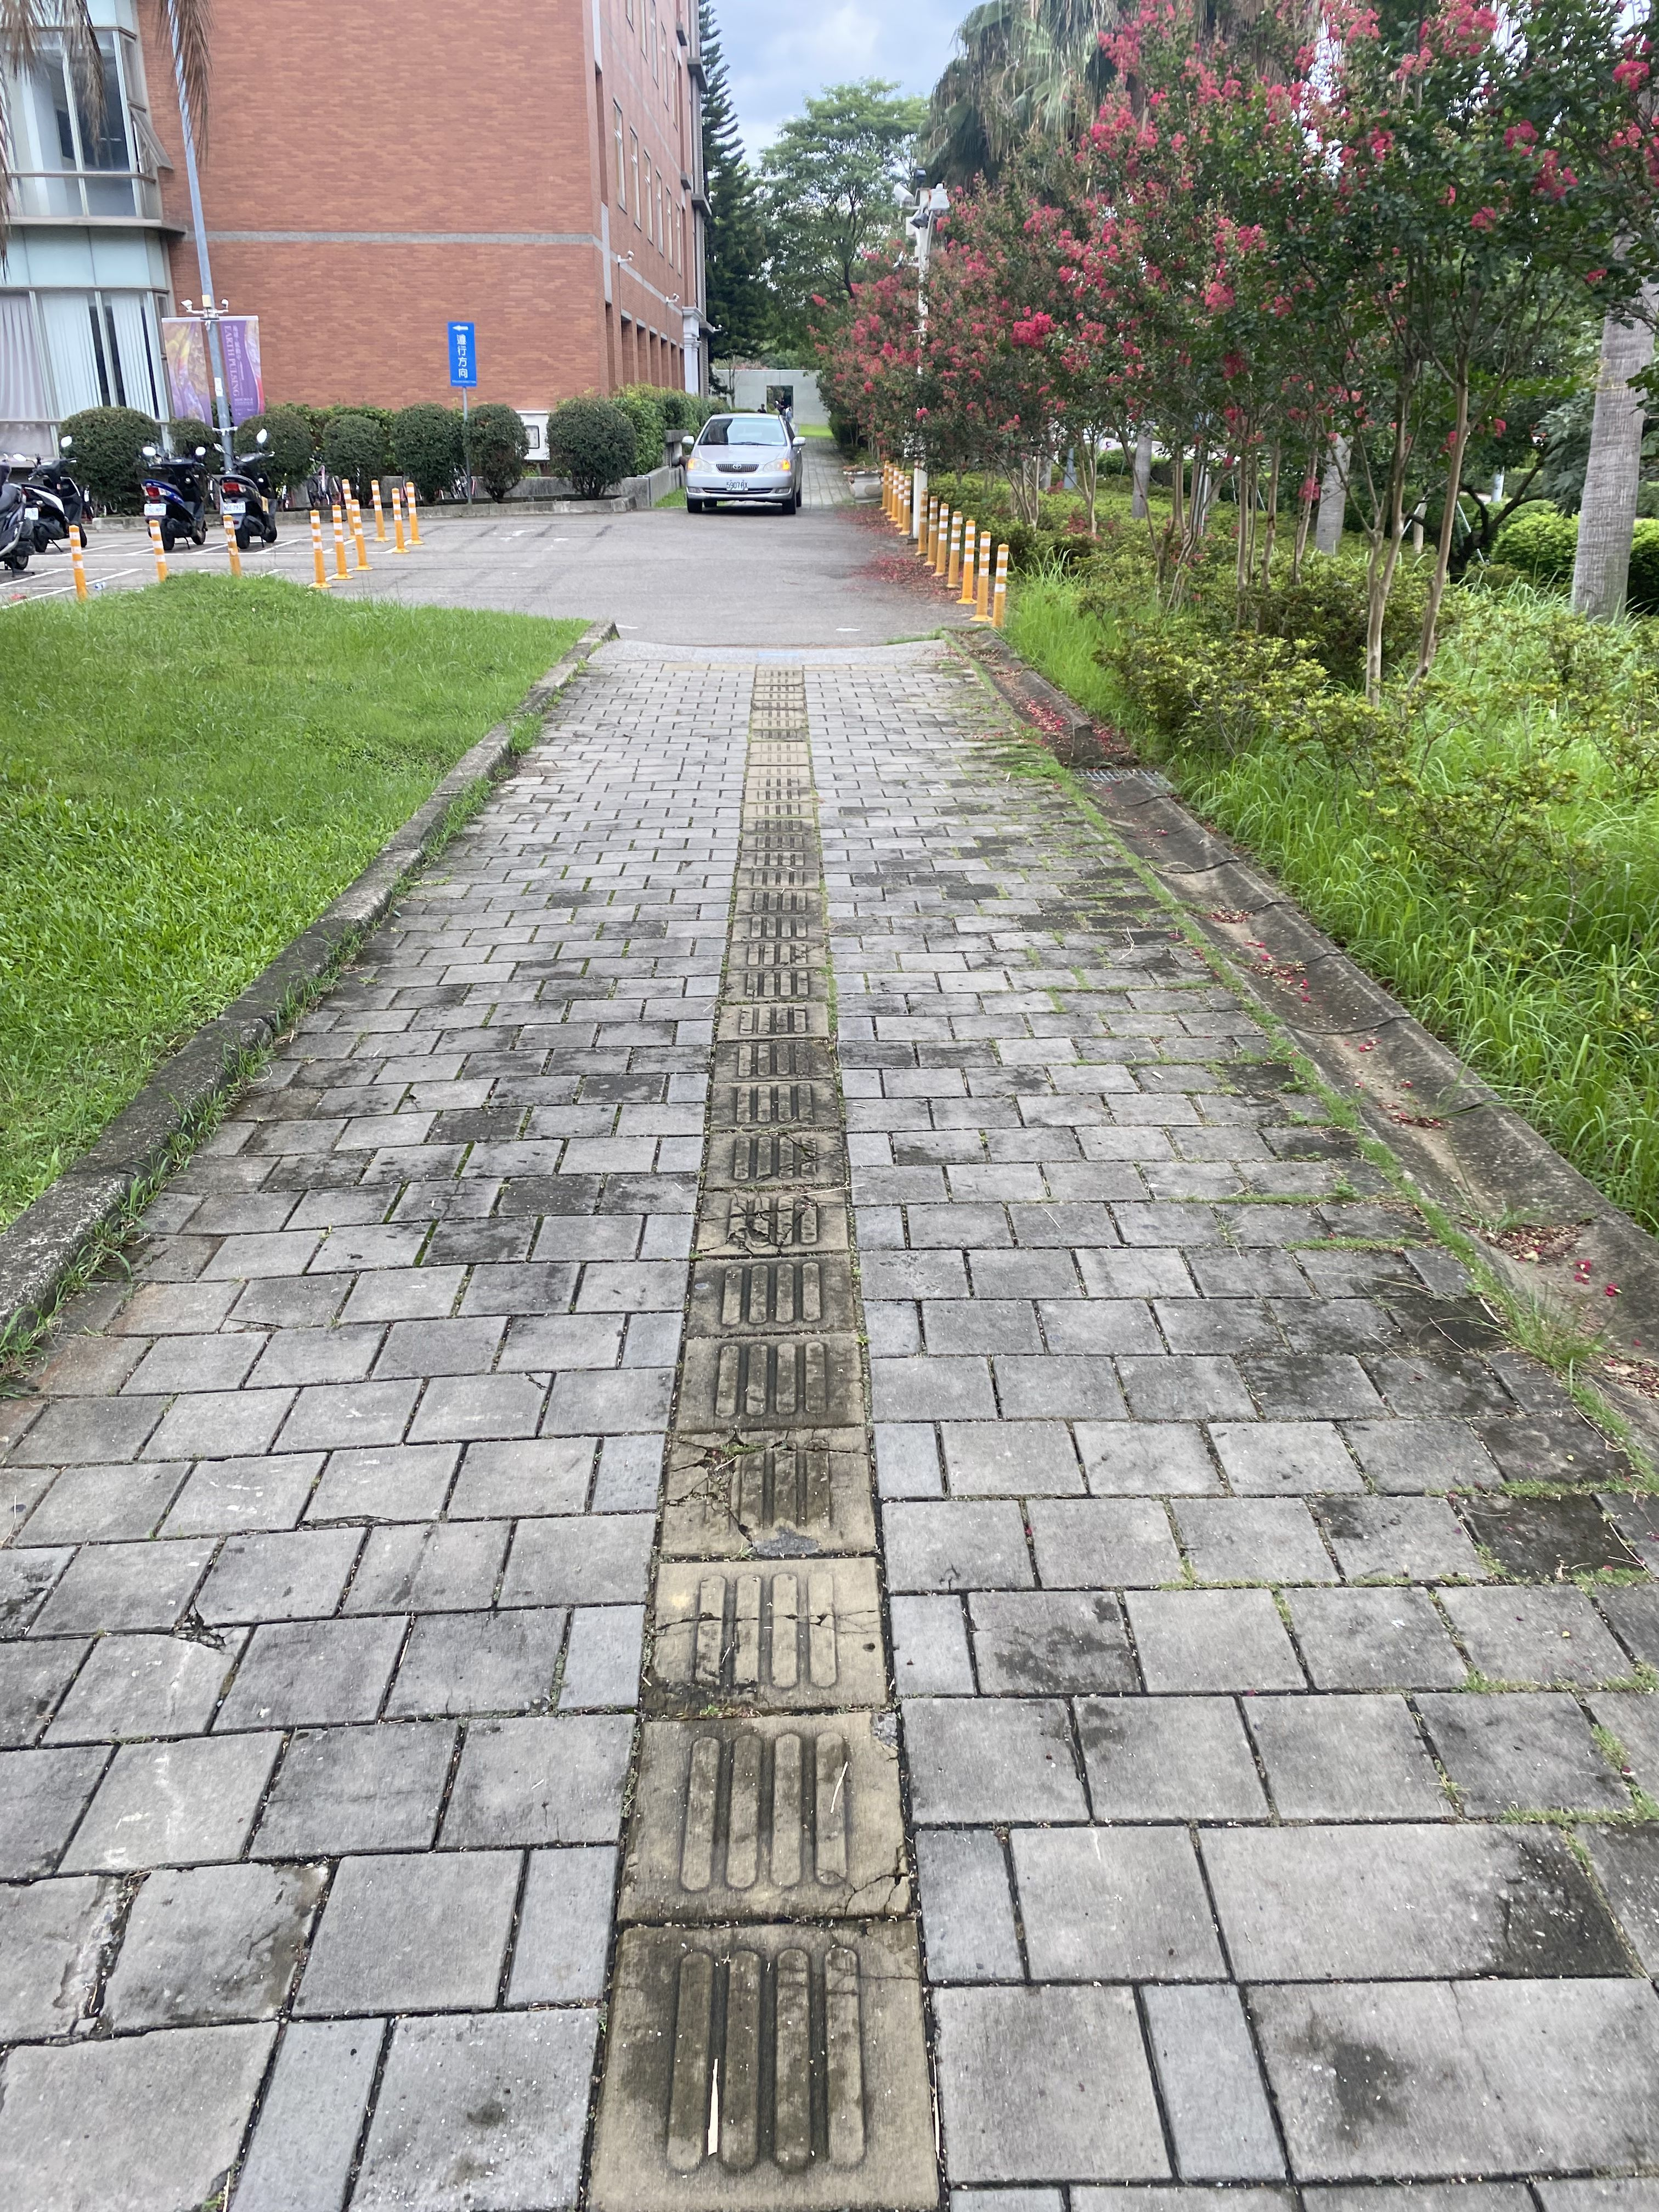0: (657, 448, 904, 622)
sidewalk: (0, 601, 1659, 2207)
